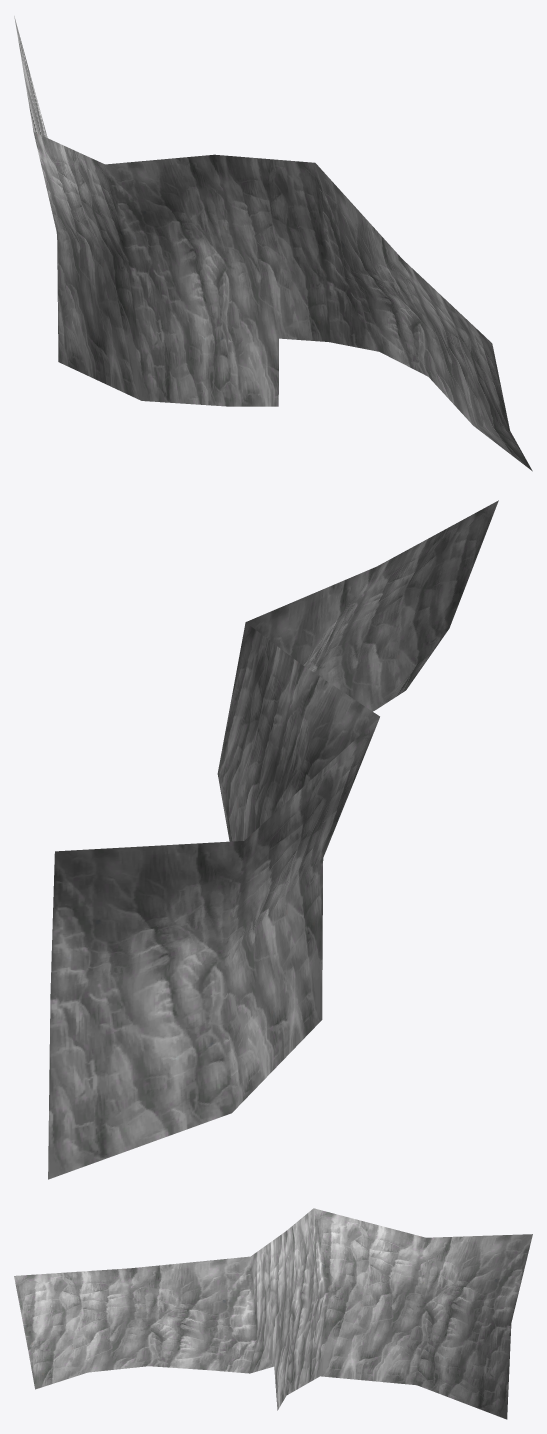
The model's file is SWORDLIGHT20_PS-AREA03_209.fbx.
3 views of the same model, one above another, from view 1: azimuth 30°, elevation 25°; view 2: azimuth 150°, elevation 25°; view 3: azimuth 270°, elevation 25° (orthographic). The views are drawn at different scales.
Visible parts, largest first — view 1: SWORDLIGHT20_PS-AREA03_209; view 2: SWORDLIGHT20_PS-AREA03_209; view 3: SWORDLIGHT20_PS-AREA03_209.
Boxes of the visible parts, x1,y1,x2,y2 form: SWORDLIGHT20_PS-AREA03_209: [14, 16, 532, 471]; SWORDLIGHT20_PS-AREA03_209: [48, 500, 498, 1179]; SWORDLIGHT20_PS-AREA03_209: [14, 1208, 532, 1419].
Size of the model in its own units: 57718 by 78897 by 205320.
1 material, 1 textured.
